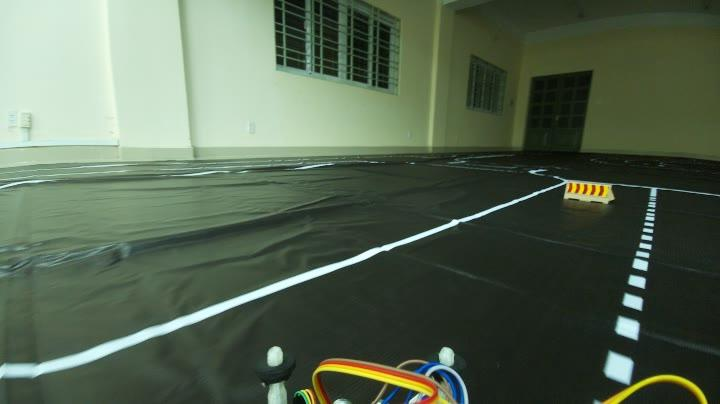roadblock: (562, 178, 618, 204)
